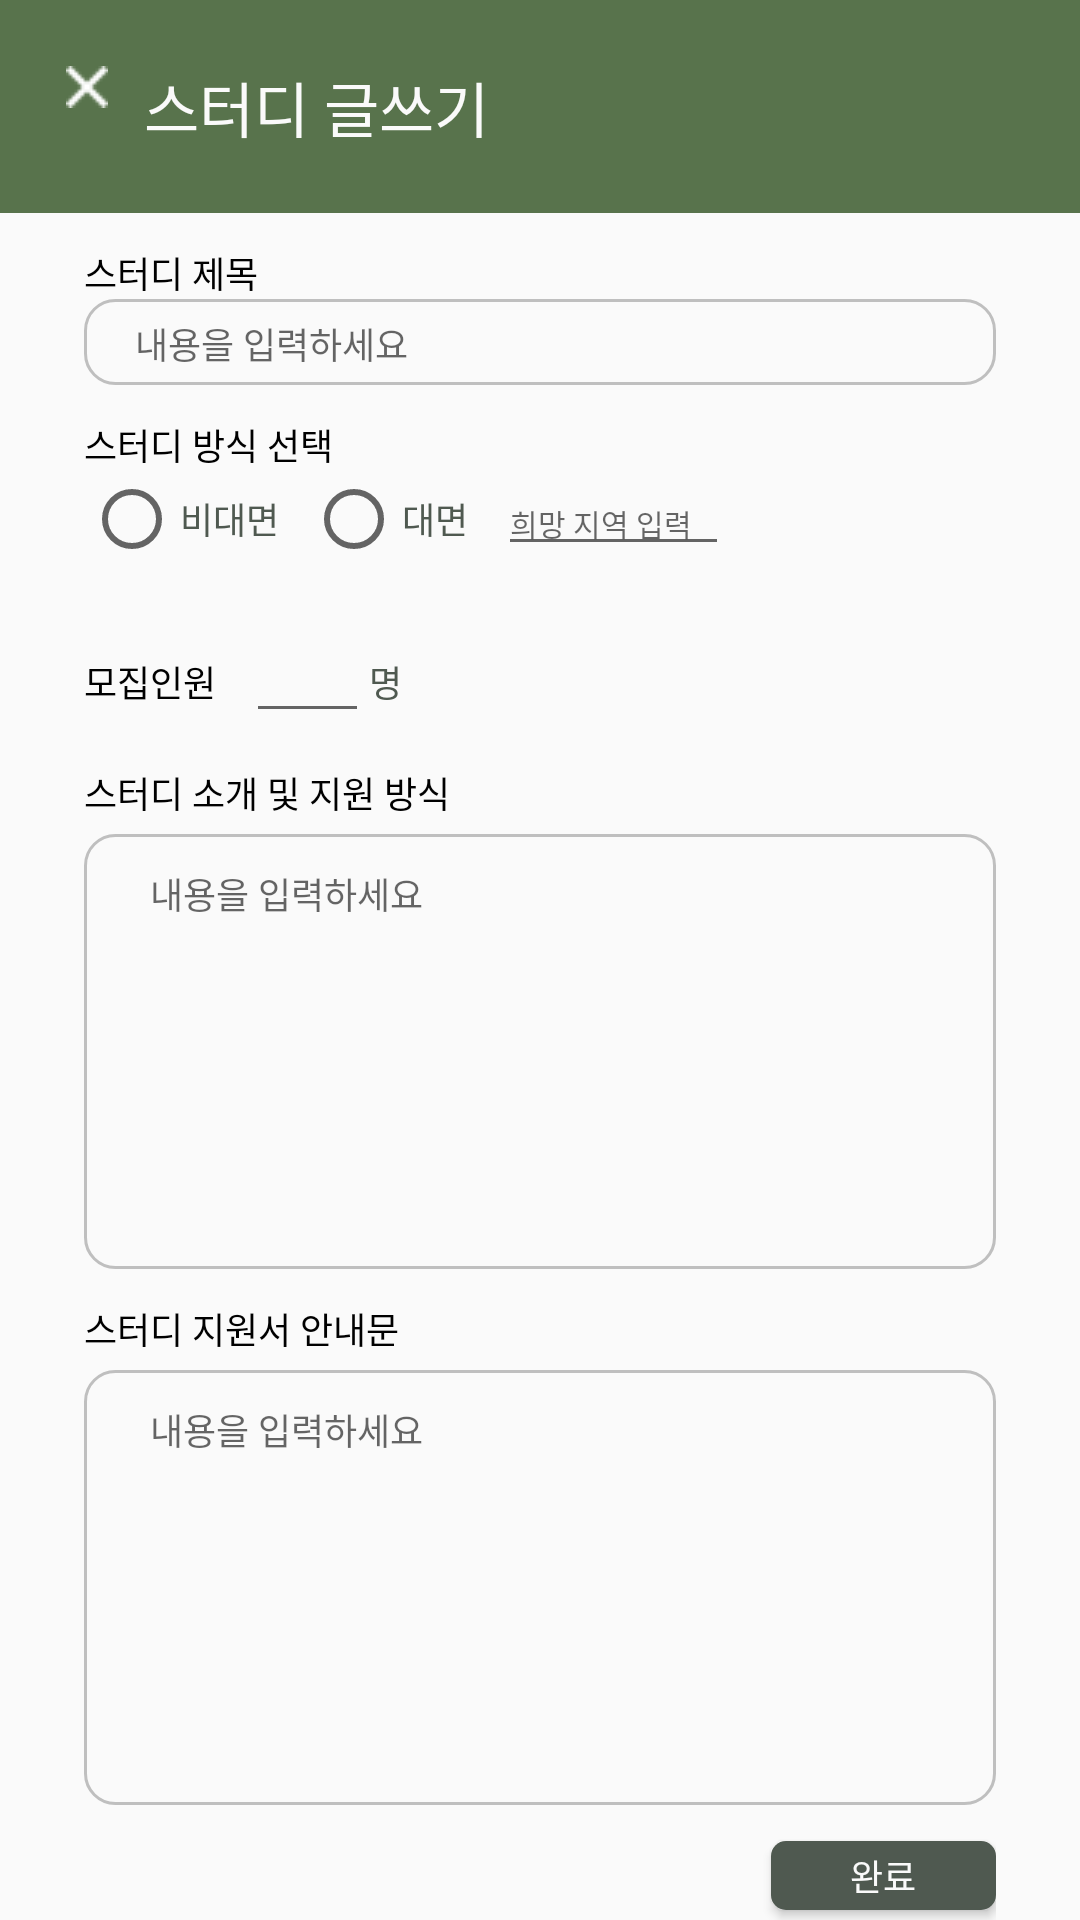

Locate icon controls on the screen. Image size 1080w x 1920h, boxes as (x1, y1, x2, y2).
exit: (66, 66, 108, 108)
